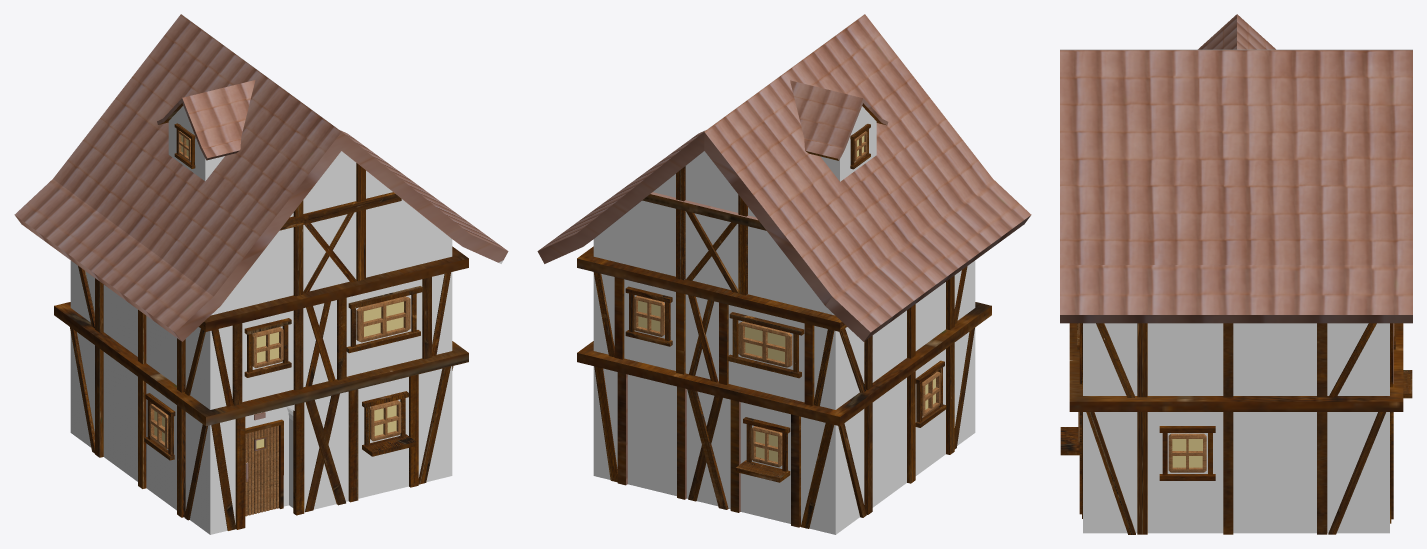
3 renders of one model, left to right at view 1: azimuth 30°, elevation 25°; view 2: azimuth 150°, elevation 25°; view 3: azimuth 270°, elevation 25°, orthographic. The views are drawn at different scales.
Parts seen in each view (by area): view 1: 立方体.042; view 2: 立方体.042; view 3: 立方体.042.
Boxes of the visible parts, x1,y1,x2,y2 form: 立方体.042: (14, 14, 508, 534); 立方体.042: (537, 14, 1031, 534); 立方体.042: (1060, 14, 1412, 534).
Bounding box in the file's own units: 7908 × 8656 × 6609.
